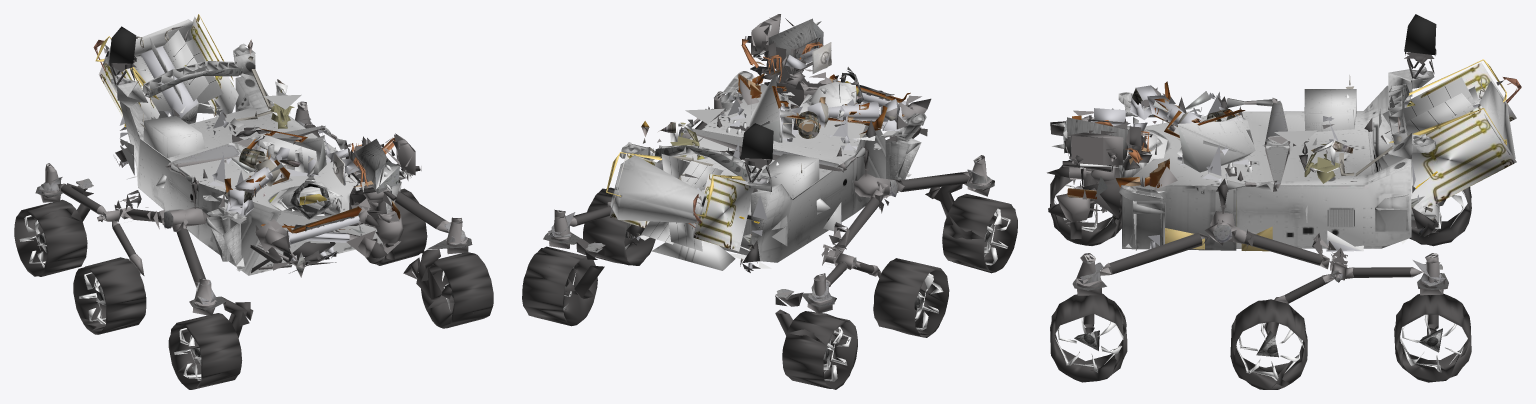
Rendered from perseverance_lod2.glb.
3 views of the same model, side by side, from view 1: azimuth 30°, elevation 25°; view 2: azimuth 150°, elevation 25°; view 3: azimuth 270°, elevation 25° (orthographic). The views are drawn at different scales.
Parts seen in each view (by area): view 1: perseverance_lod2; view 2: perseverance_lod2; view 3: perseverance_lod2.
Part boxes in pixels (bbox=[...]): perseverance_lod2: bbox=[14, 14, 493, 389]; perseverance_lod2: bbox=[522, 14, 1017, 389]; perseverance_lod2: bbox=[1047, 14, 1521, 389].
Bounding box in the file's own units: 2.73 × 1.84 × 3.12.
27 materials, 10 textured.
